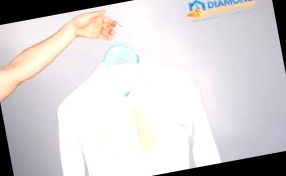coffee: (92, 107, 155, 160)
